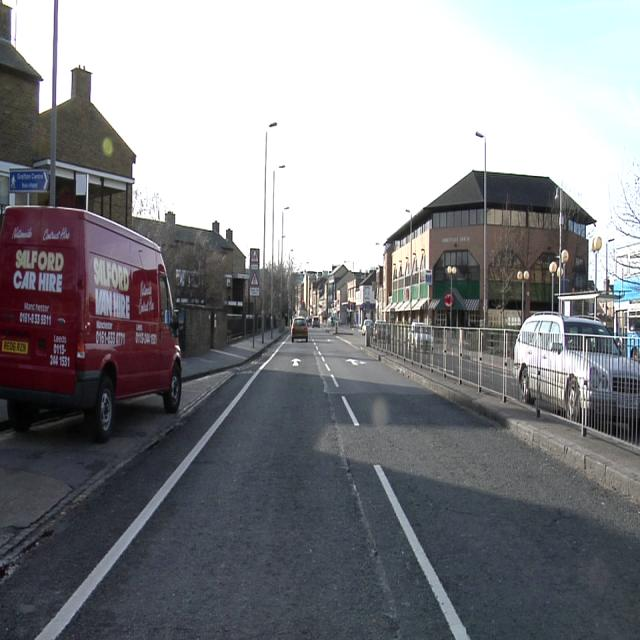Building: (383, 172, 484, 325), (488, 173, 595, 311), (57, 67, 135, 219), (133, 213, 243, 309), (1, 2, 46, 164), (299, 264, 380, 326), (615, 279, 639, 335)
Car: (516, 315, 639, 439), (396, 321, 432, 364), (292, 318, 307, 340), (312, 317, 319, 327)
Road: (3, 330, 639, 609)
Tree: (265, 208, 299, 326), (611, 149, 639, 281)
Truck_Bus: (0, 208, 181, 441)
